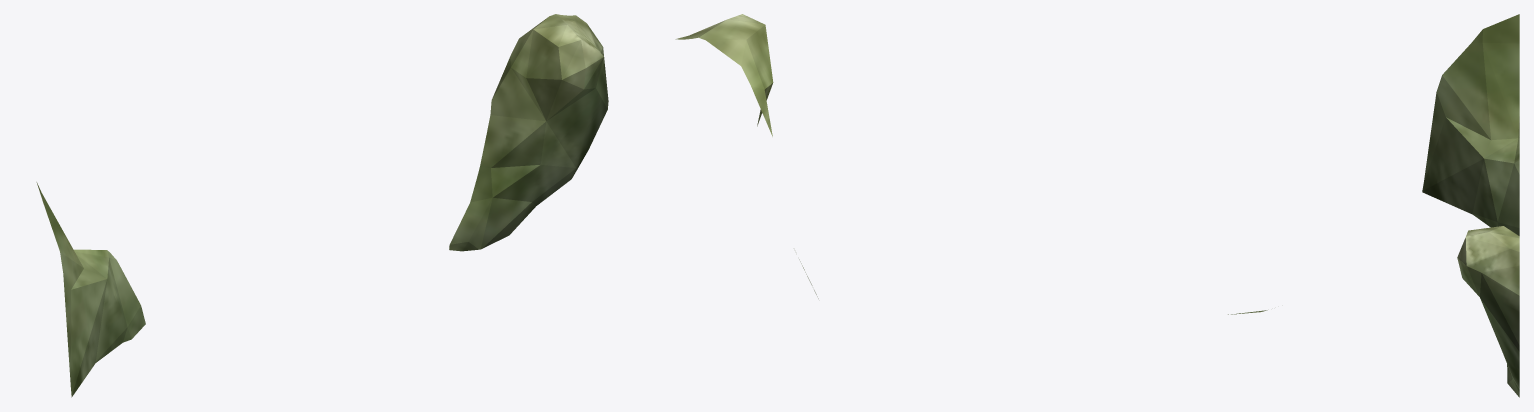
3 views of the same model, side by side, from view 1: azimuth 30°, elevation 25°; view 2: azimuth 150°, elevation 25°; view 3: azimuth 270°, elevation 25° (orthographic). The views are drawn at different scales.
Bounding box in the file's own units: 2.21 × 0.76 × 0.3677.
Materials: 1 (1 with a texture image).
